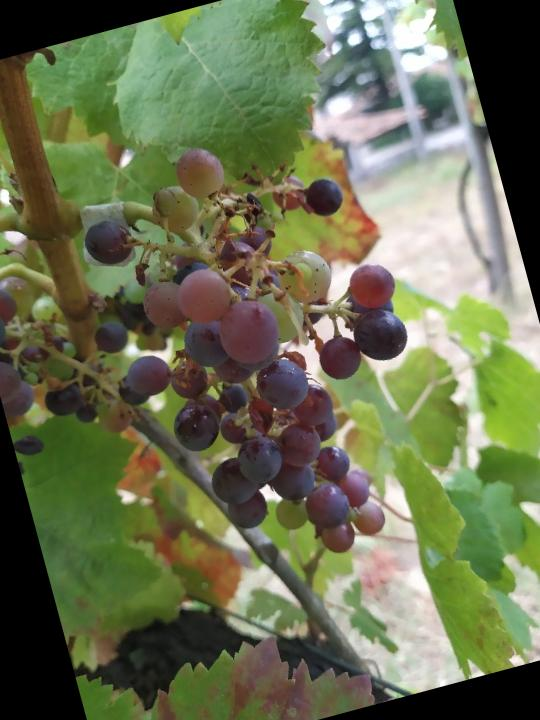grape: (0, 98, 465, 626)
